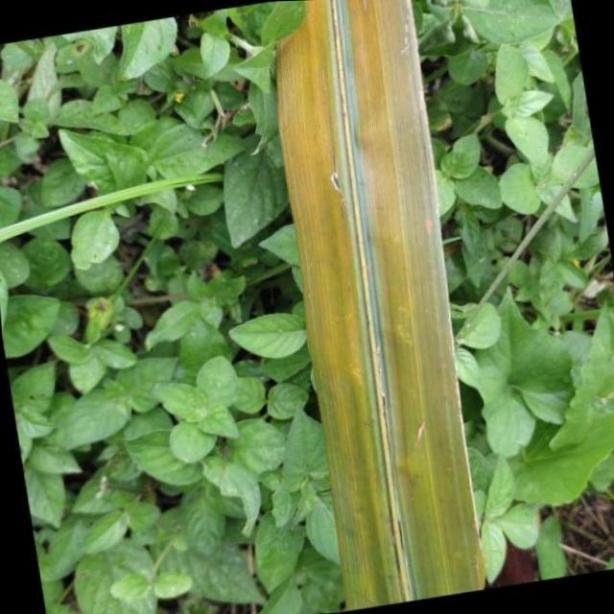Megnesium: (275, 0, 488, 609)
